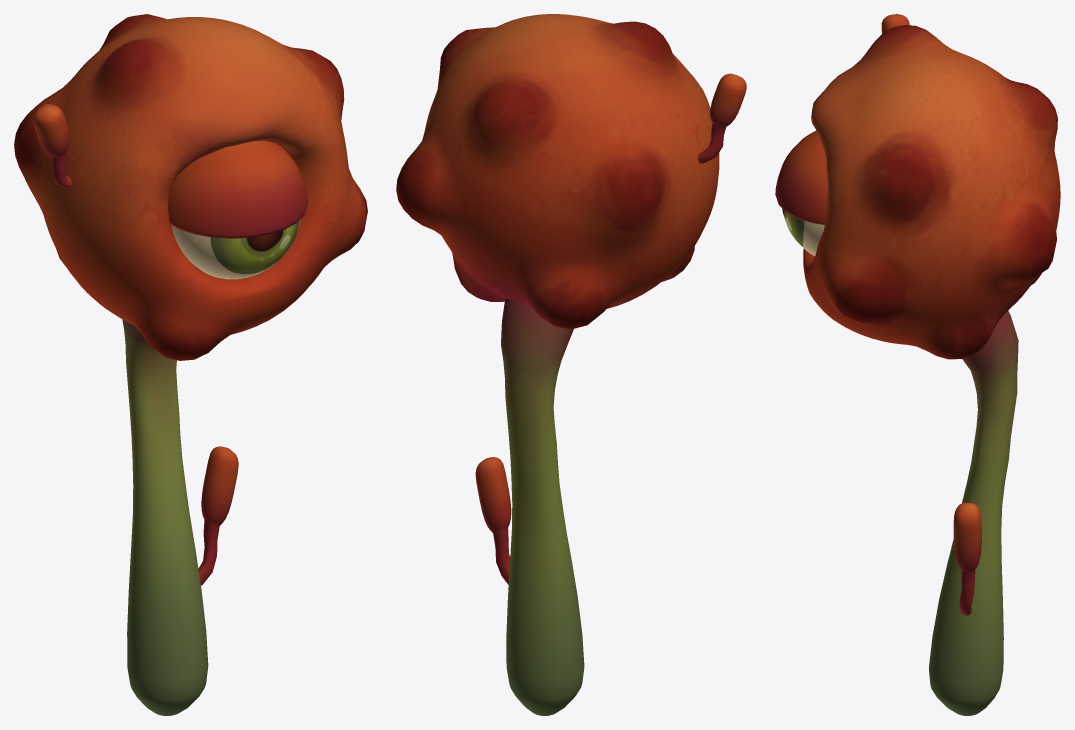
Rendered from NewGGModel.fbx.
3 renders of one model, left to right at view 1: azimuth 30°, elevation 25°; view 2: azimuth 150°, elevation 25°; view 3: azimuth 270°, elevation 25°, orthographic. The views are drawn at different scales.
Visible parts, largest first — view 1: GazeGrowthBody, GazeGrowthEyeLid, GazeGrowthEyeball; view 2: GazeGrowthBody; view 3: GazeGrowthBody, GazeGrowthEyeLid, GazeGrowthEyeball.
Boxes of the visible parts, x1,y1,x2,y2 form: GazeGrowthBody: (14, 14, 367, 715); GazeGrowthEyeLid: (168, 140, 307, 238); GazeGrowthEyeball: (171, 219, 300, 279); GazeGrowthBody: (396, 14, 746, 715); GazeGrowthBody: (803, 14, 1060, 715); GazeGrowthEyeLid: (775, 131, 828, 224); GazeGrowthEyeball: (782, 208, 824, 256).
Bounding box in the file's own units: 120 × 260 × 102.
1 material, 1 textured.
